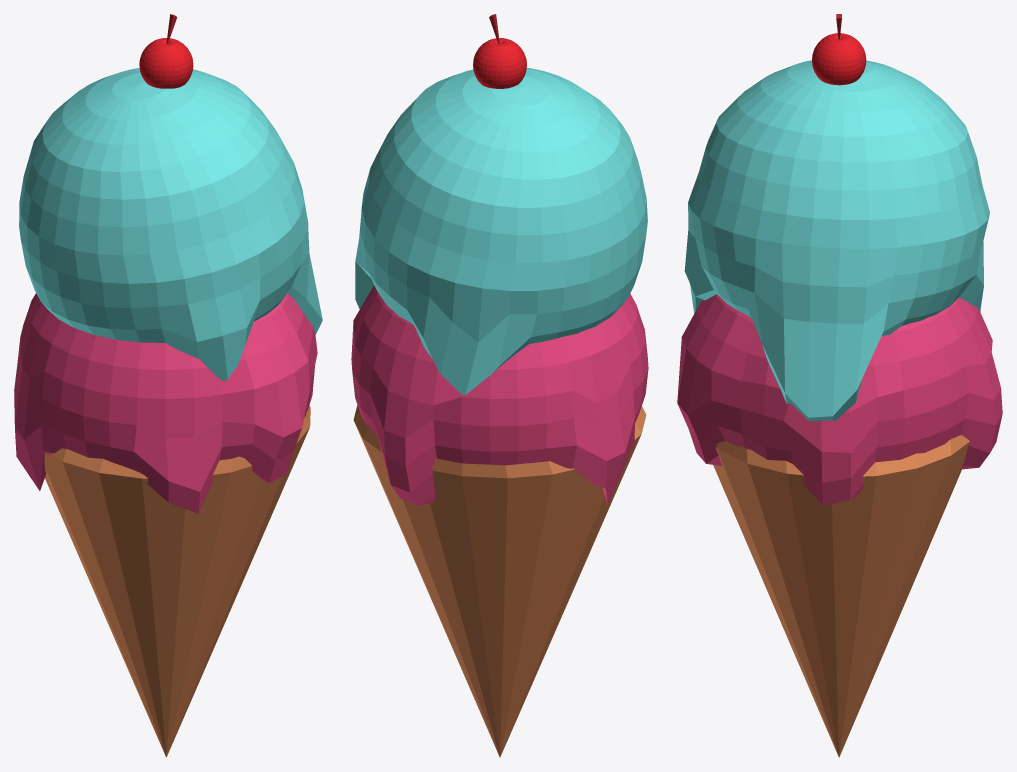
Rendered from Helado.glb.
3 views of the same model, side by side, from view 1: azimuth 30°, elevation 25°; view 2: azimuth 150°, elevation 25°; view 3: azimuth 270°, elevation 25° (orthographic).
Visible parts, largest first — view 1: Helado; view 2: Helado; view 3: Helado.
Boxes of the visible parts, <box> form: Helado: <box>14,14,322,757</box>; Helado: <box>351,14,648,757</box>; Helado: <box>677,14,1002,757</box>.
Bounding box in the file's own units: 2.32 × 6.04 × 2.39.
